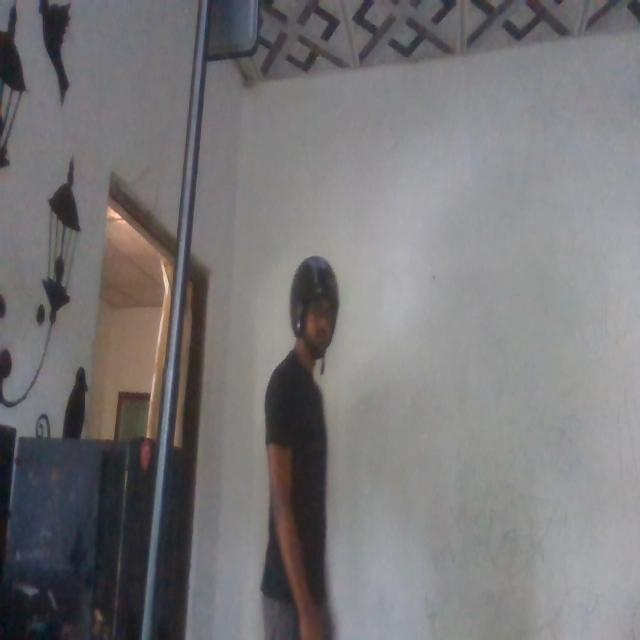Helmet_Wearer: (283, 248, 339, 379)
Person: (248, 241, 348, 640)
